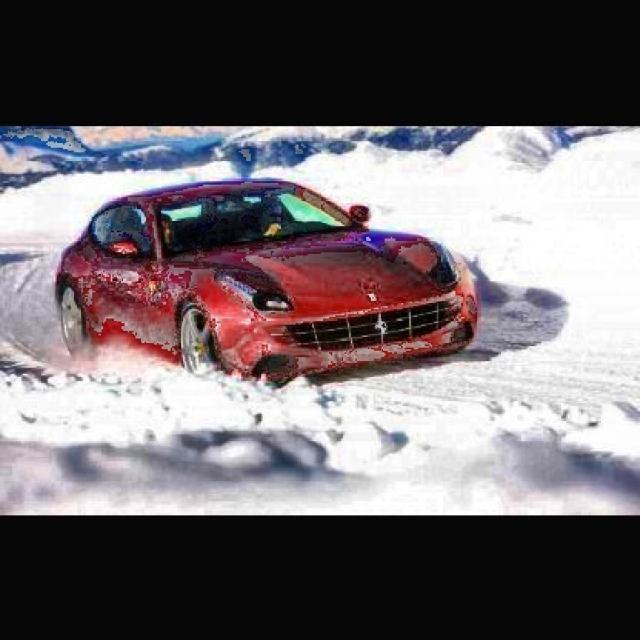maroon: (57, 175, 478, 377)
